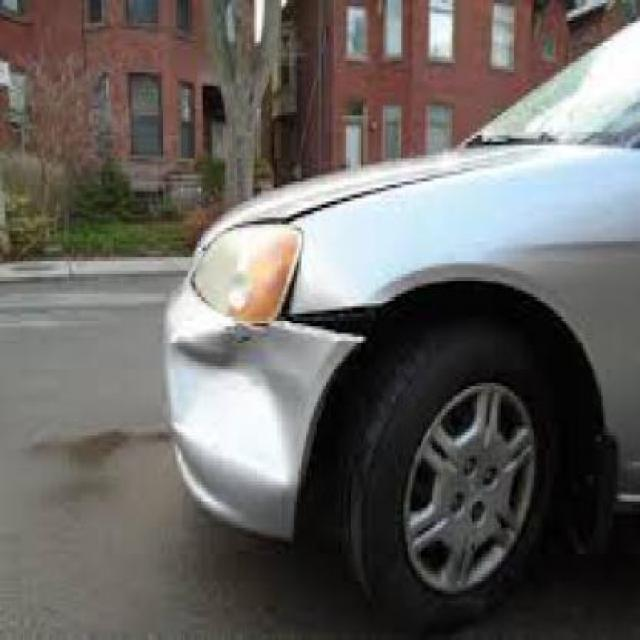damaged-front-bumper: (165, 314, 382, 534)
